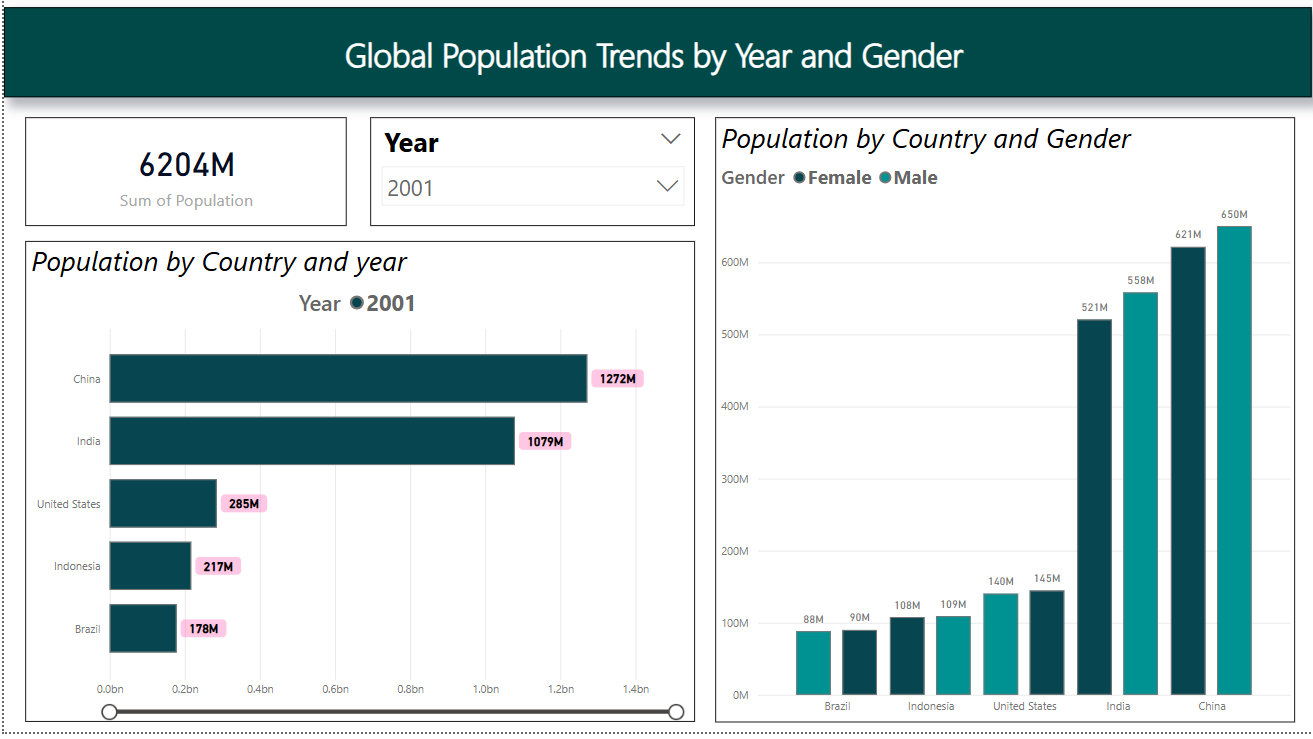

The page's visual inventory and layout, read from the dashboard file:
{"tool":"powerbi","page":{"name":"Page 1","canvas":[1280,720],"ordinal":0},"visuals":[{"type":"slicer","fields":{"Values":["worldpopulationdata.Year"]},"box":[358.3,118.6,317.9,106.4],"z":0},{"type":"card","fields":{"Values":["Sum(worldpopulationdata.Population)"]},"box":[20.8,118.6,314.3,106.4],"z":1000},{"type":"clusteredBarChart","title":"Population by Country and year","fields":{"Category":["worldpopulationdata.Country Name"],"Y":["Sum(worldpopulationdata.Population)"],"Series":["worldpopulationdata.Year"]},"box":[20.8,239.7,655.4,470.8],"z":2000},{"type":"textbox","box":[0,11,1279.1,88],"z":3000},{"type":"clusteredColumnChart","title":"Population by Country and Gender","fields":{"Y":["Sum(worldpopulationdata.Population)"],"Category":["worldpopulationdata.Country Name"],"Series":["worldpopulationdata.Gender"]},"box":[695.8,118.6,567.4,591.9],"z":4000}]}

Visuals, with their boxes in screenshot pixels (x1, y1, x2, y2), scaled from the page's 1280x720 canvas onto the 1313x739 screenshot:
slicer - worldpopulationdata.Year: Rect(368, 122, 694, 231)
card - Sum(worldpopulationdata.Population): Rect(21, 122, 344, 231)
"Population by Country and year" clusteredBarChart: Rect(21, 246, 694, 729)
textbox: Rect(0, 11, 1312, 102)
"Population by Country and Gender" clusteredColumnChart: Rect(714, 122, 1296, 729)
